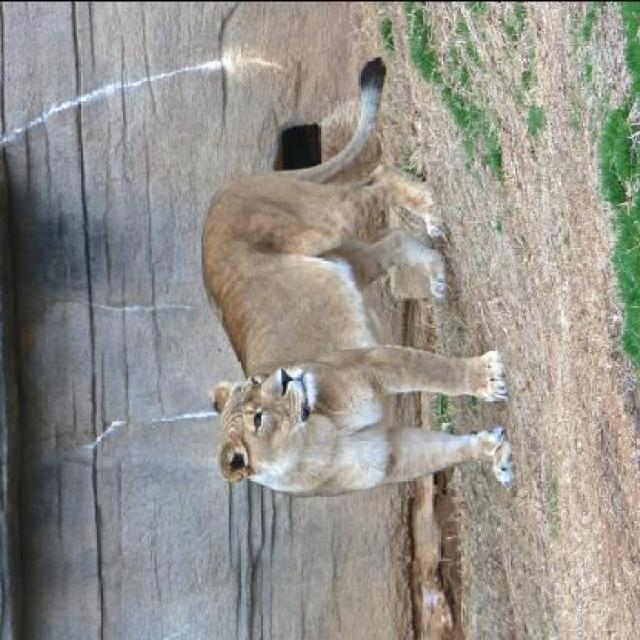Lion: (186, 57, 531, 512)
